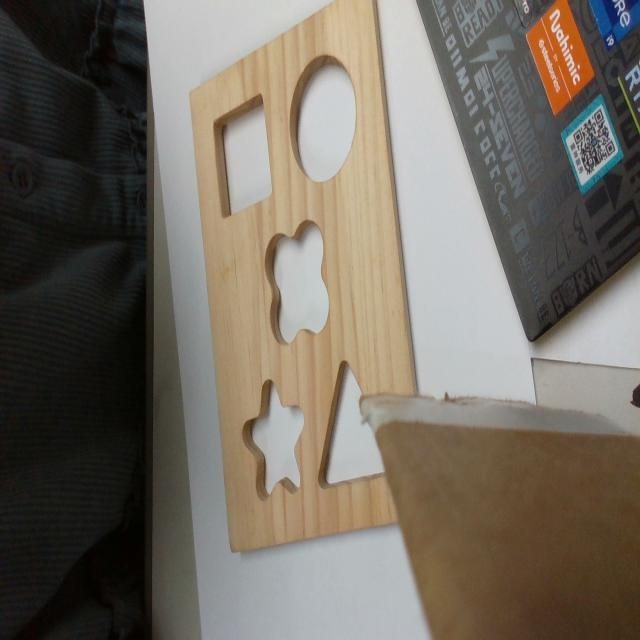circle: (289, 52, 357, 186)
flower: (262, 217, 330, 344)
square: (212, 93, 275, 218)
star: (242, 378, 302, 500)
triangle: (315, 358, 386, 490)
